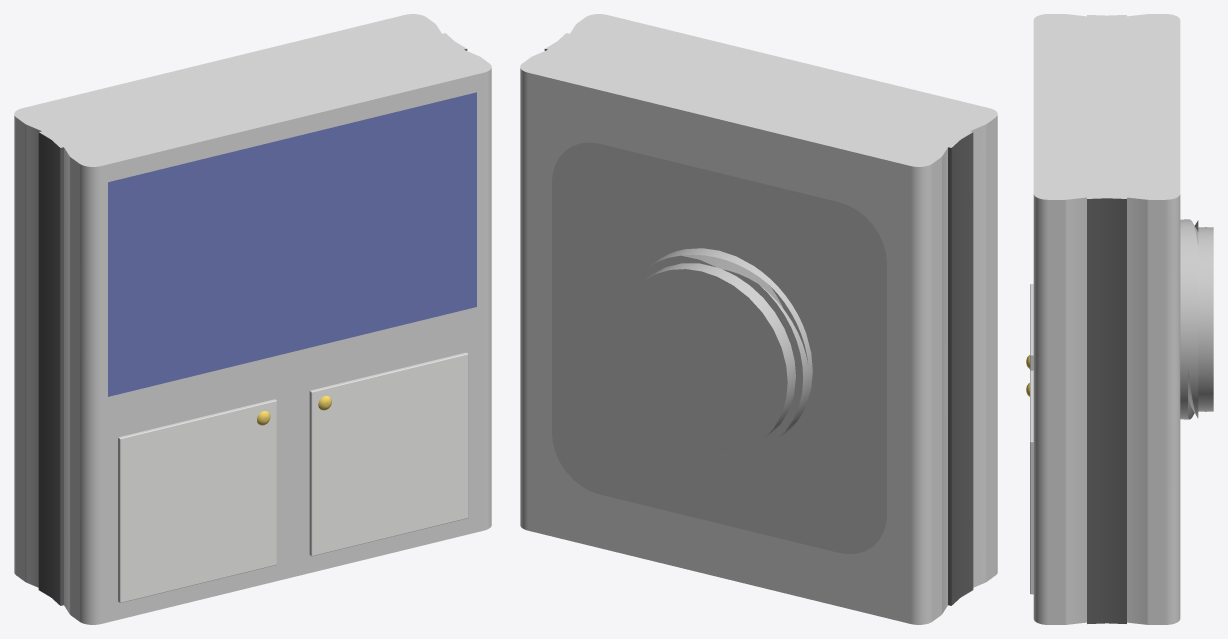
File: devicev18.glb
The picture shows the model from 3 angles, left to right: view 1: azimuth 30°, elevation 25°; view 2: azimuth 150°, elevation 25°; view 3: azimuth 270°, elevation 25°; orthographic projection. The views are drawn at different scales.
Visible parts, largest first — view 1: Body1, Distanzknopf, Lichtknopf; view 2: Body1, Male 001; view 3: Body1, Male 001, Distanzknopf, Lichtknopf.
Boxes of the visible parts, x1=… form: Body1: x1=14, y1=14, x2=491, y2=624; Distanzknopf: x1=309, y1=352, x2=468, y2=556; Lichtknopf: x1=118, y1=399, x2=276, y2=602; Body1: x1=520, y1=14, x2=997, y2=624; Male 001: x1=552, y1=142, x2=886, y2=554; Body1: x1=1033, y1=14, x2=1180, y2=624; Male 001: x1=1180, y1=219, x2=1213, y2=419; Distanzknopf: x1=1026, y1=370, x2=1033, y2=594; Lichtknopf: x1=1026, y1=284, x2=1033, y2=370.
Bounding box in the file's own units: 60 × 64 × 25.55.
